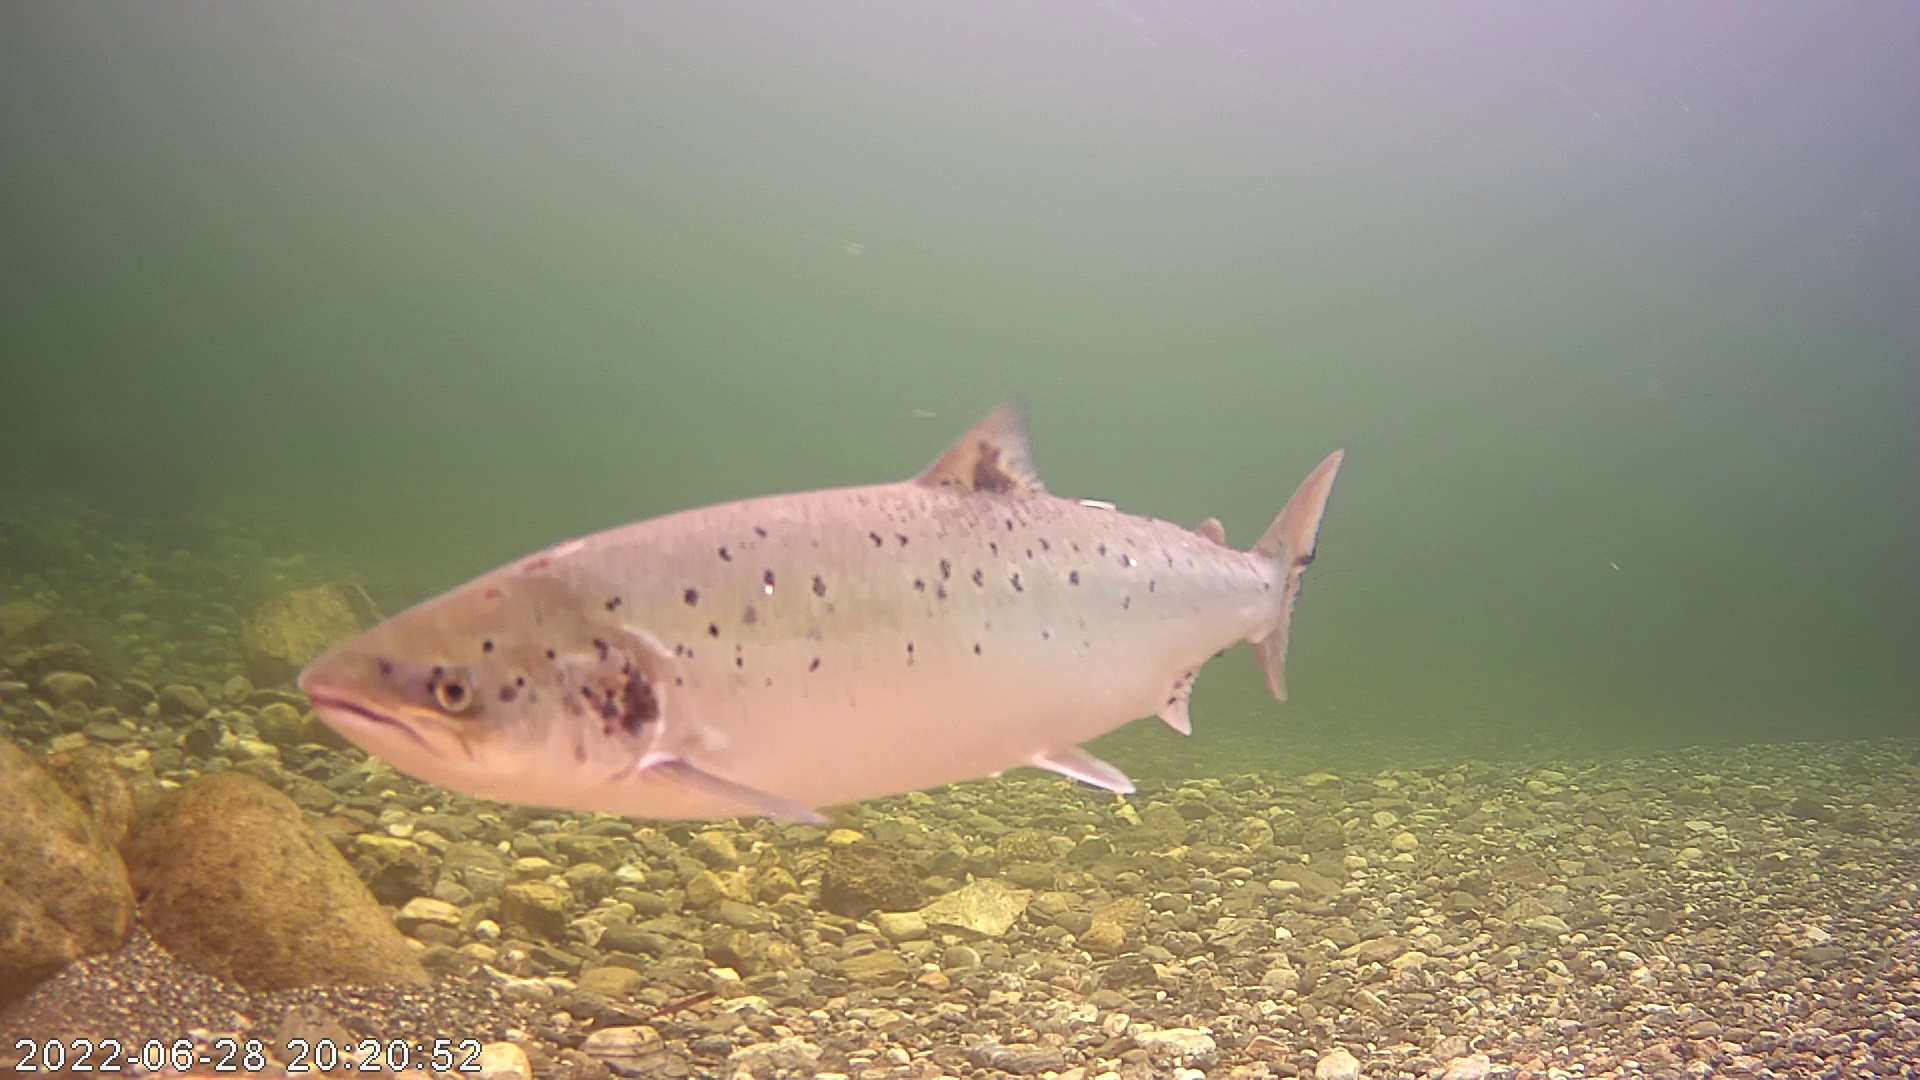salmon: (274, 351, 1342, 829)
